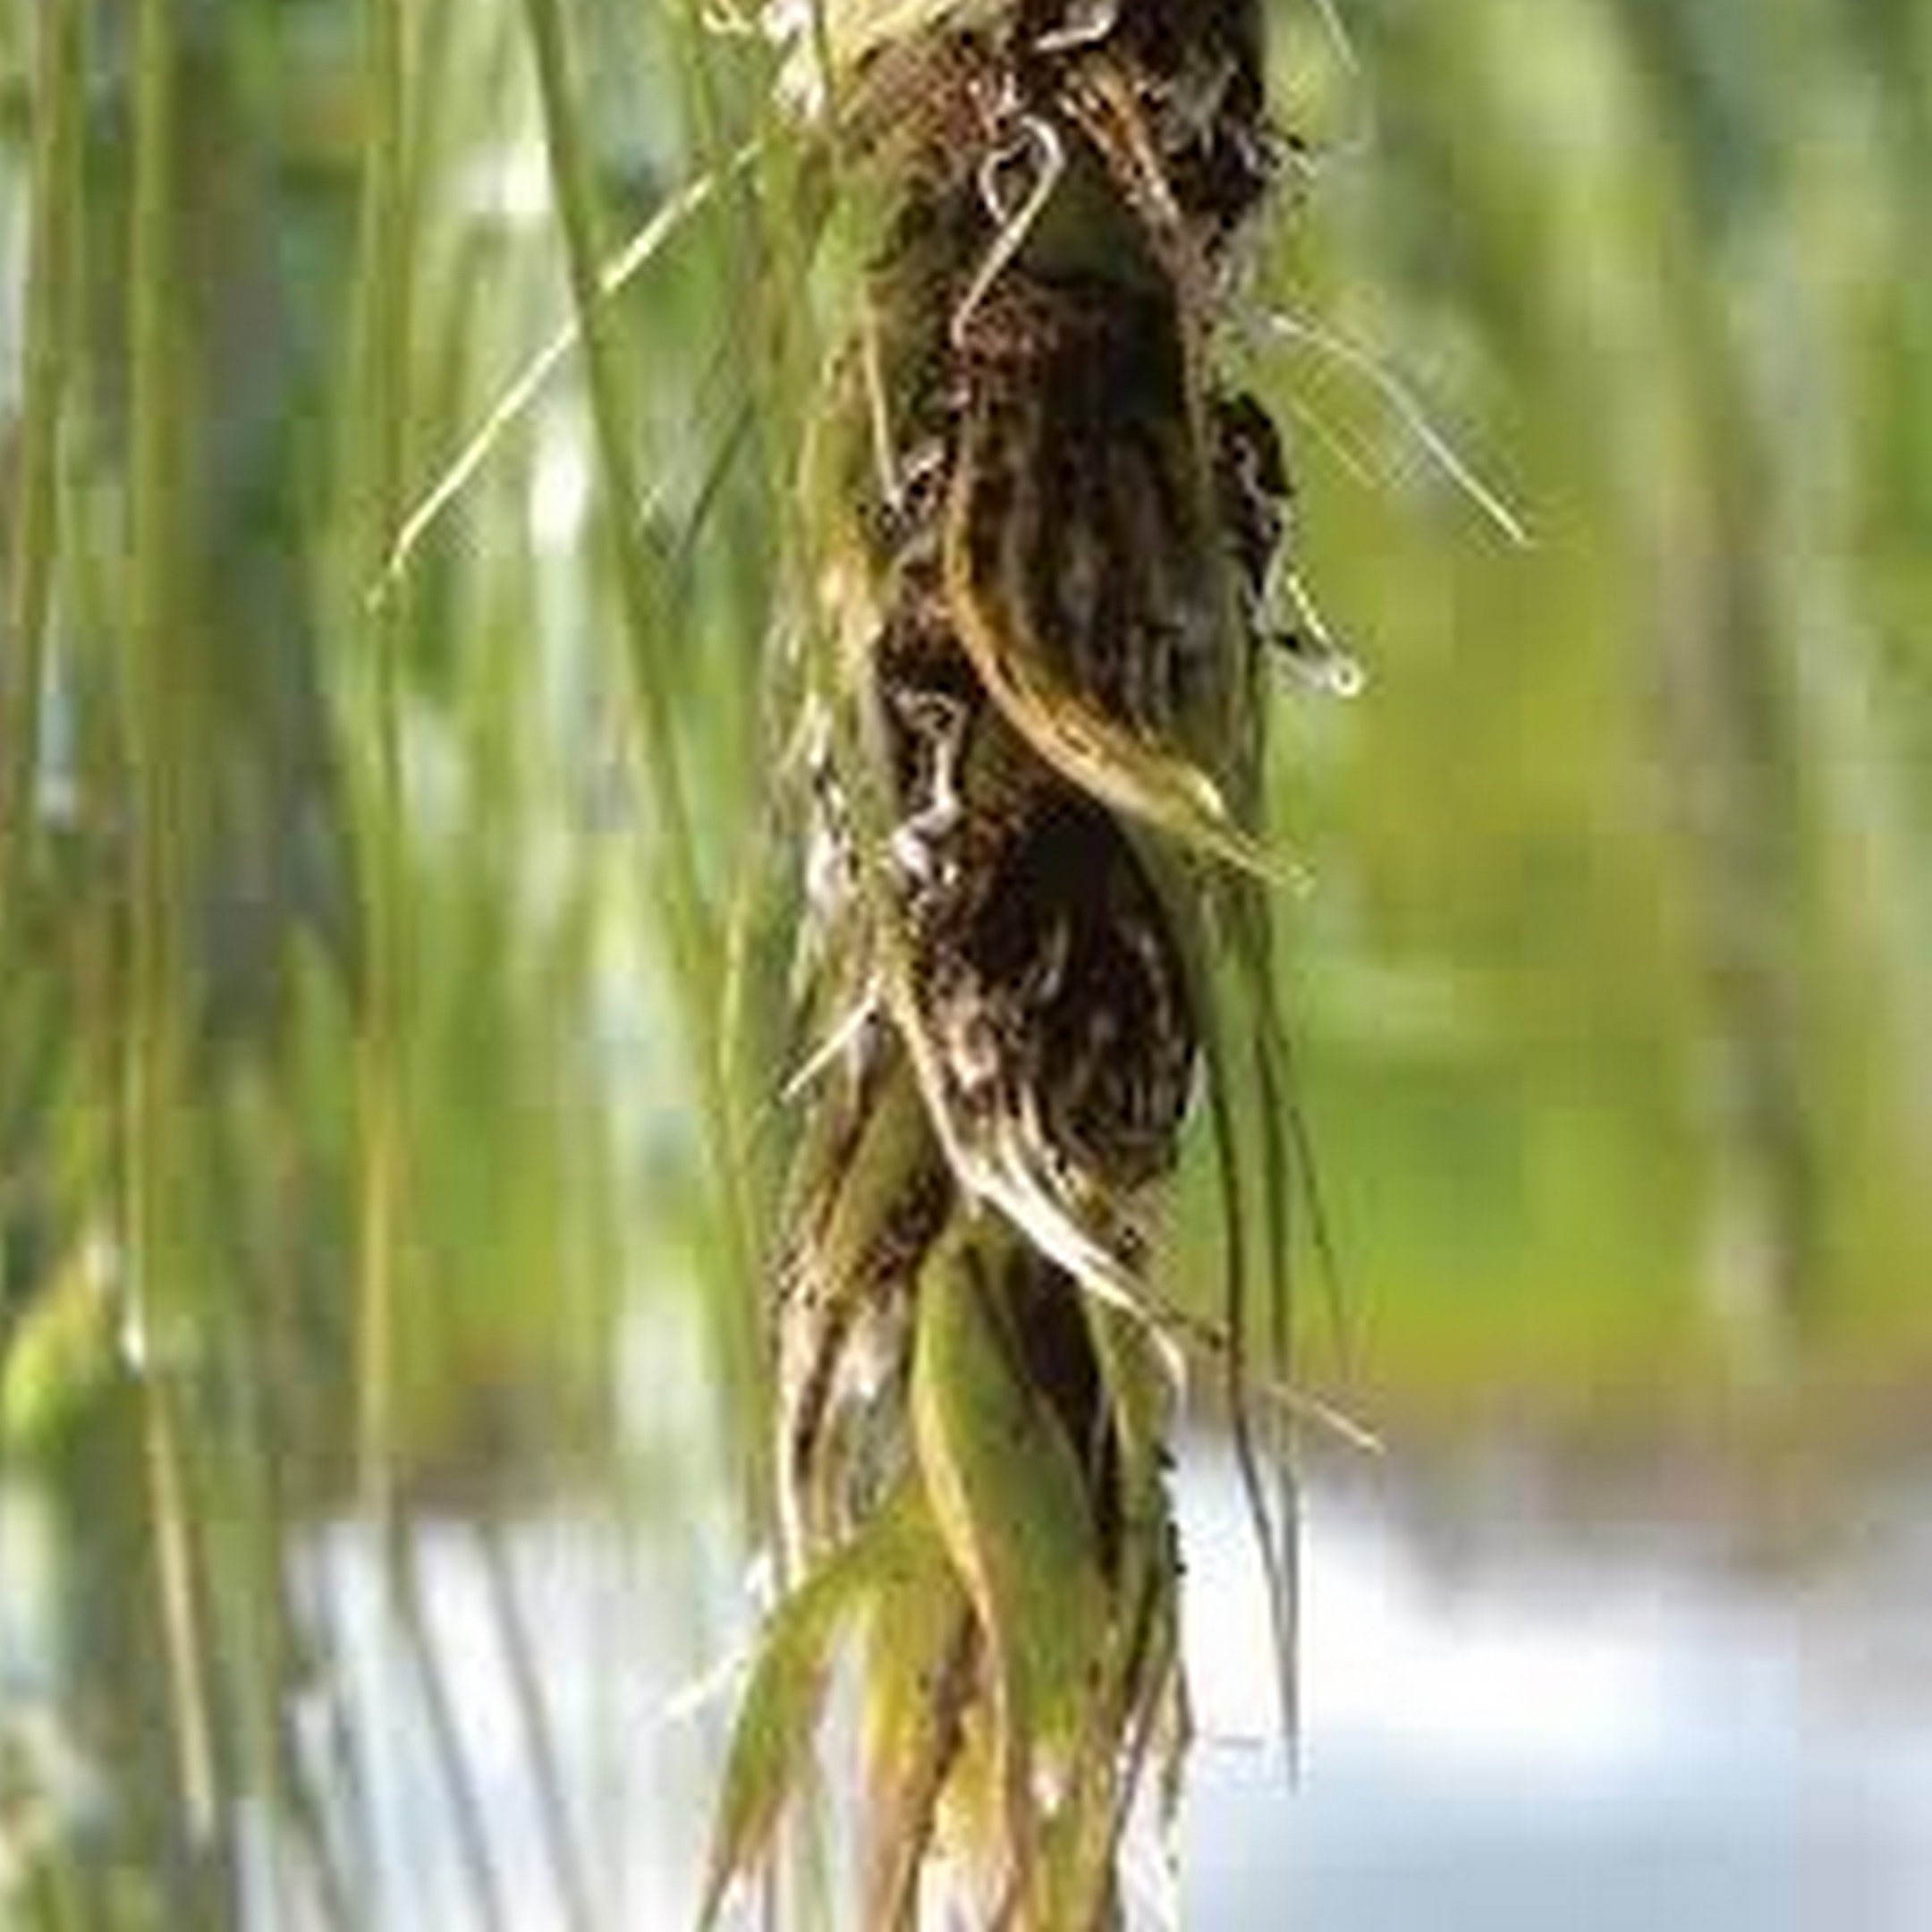Wheat Loose Smut: (694, 4, 1396, 1546)
